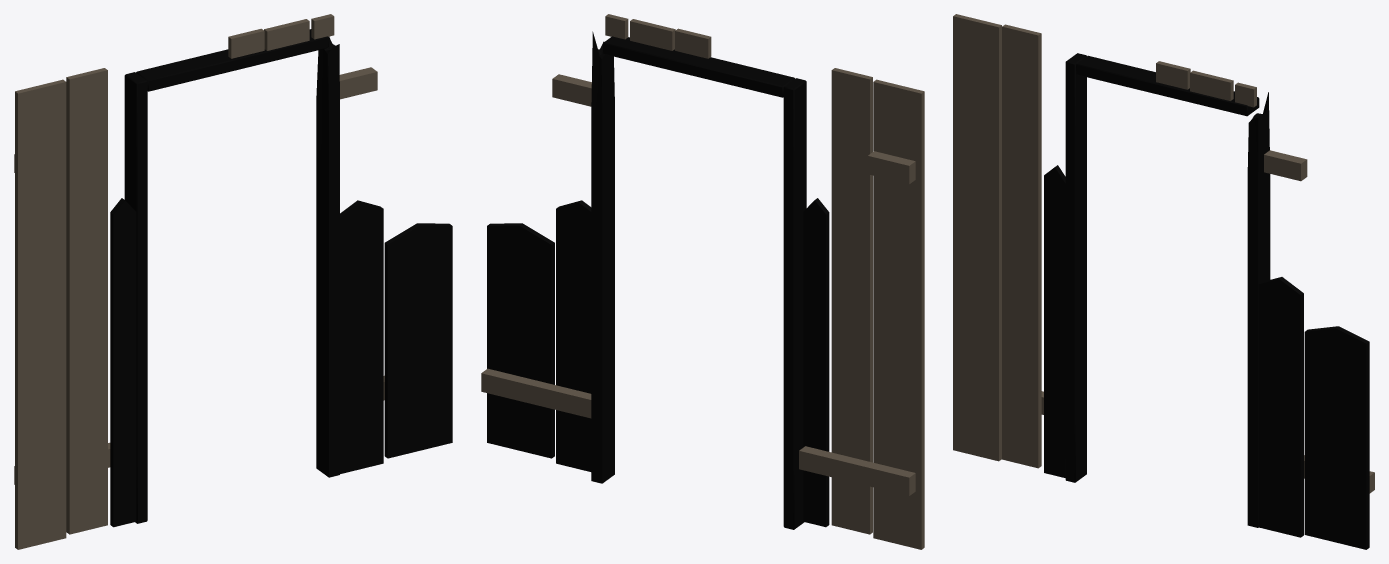
The model's file is bretter_tuer_kaputt.glb.
3 views of the same model, side by side, from view 1: azimuth 30°, elevation 25°; view 2: azimuth 150°, elevation 25°; view 3: azimuth 330°, elevation 25° (orthographic). The views are drawn at different scales.
Parts seen in each view (by area): view 1: bretter_tuer_kaputt; view 2: bretter_tuer_kaputt; view 3: bretter_tuer_kaputt.
Part boxes in pixels (box(x1,y1,x2,y2)): bretter_tuer_kaputt: box(14, 14, 452, 549); bretter_tuer_kaputt: box(481, 14, 924, 549); bretter_tuer_kaputt: box(953, 14, 1374, 549).
Bounding box in the file's own units: 1.97 × 2 × 0.1.
